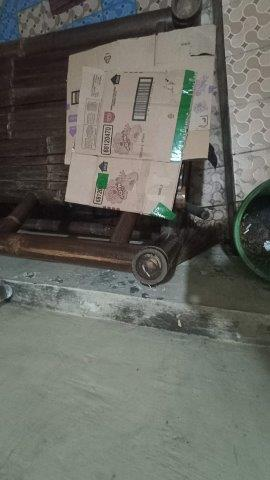kardus: (65, 26, 215, 215)
